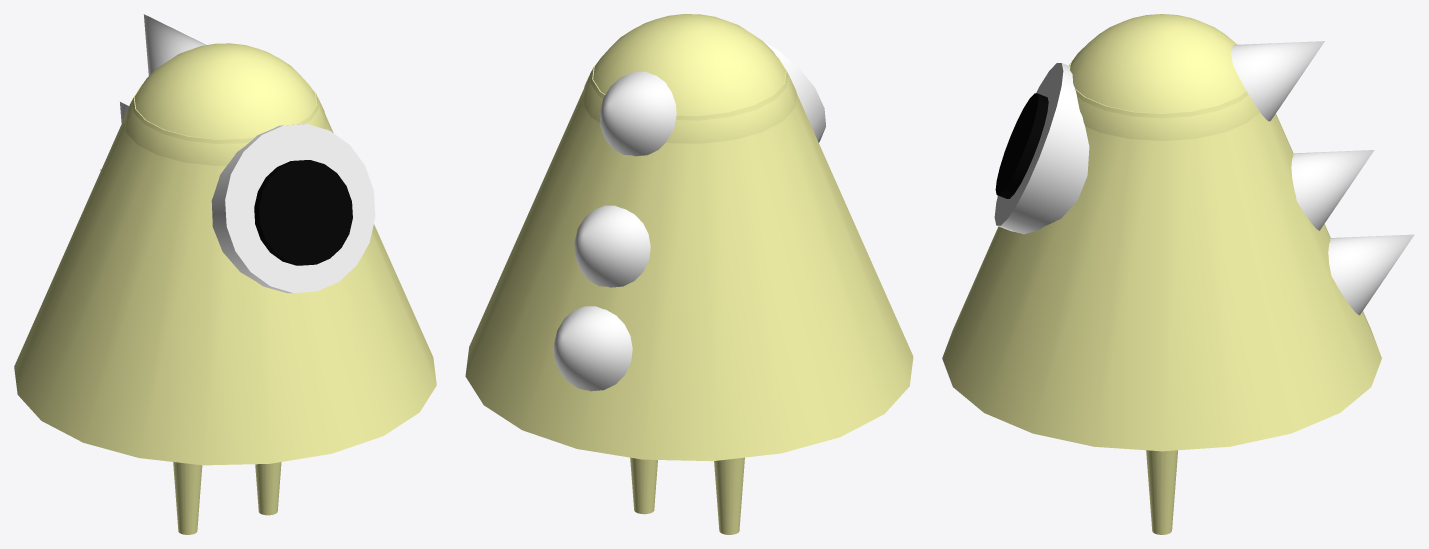
3 renders of one model, left to right at view 1: azimuth 30°, elevation 25°; view 2: azimuth 150°, elevation 25°; view 3: azimuth 270°, elevation 25°, orthographic. The views are drawn at different scales.
Visible parts, largest first — view 1: pCylinder1, pSphere1, pCylinder5, pCylinder6, pCylinder3, pCone4, pCylinder4; view 2: pCylinder1, pSphere1, pCone6, pCone4, pCone5, pCylinder3, pCylinder5, pCylinder4; view 3: pCylinder1, pSphere1, pCylinder5, pCone4, pCone6, pCone5, pCylinder6, pCylinder4.
Part boxes in pixels (x1,y1,x2,y2): pCylinder1: (14, 84, 436, 465); pSphere1: (124, 43, 326, 165); pCylinder5: (211, 124, 375, 293); pCylinder6: (254, 160, 352, 265); pCylinder3: (173, 462, 202, 534); pCone4: (143, 14, 206, 75); pCylinder4: (255, 462, 281, 515); pCylinder1: (465, 57, 913, 461); pSphere1: (582, 14, 796, 143); pCone6: (554, 306, 632, 391); pCone4: (599, 71, 676, 156); pCone5: (574, 205, 650, 287); pCylinder3: (714, 457, 744, 534); pCylinder5: (763, 41, 825, 142); pCylinder4: (630, 457, 657, 514); pCylinder1: (942, 60, 1381, 451); pSphere1: (1069, 14, 1259, 140); pCylinder5: (994, 63, 1089, 234); pCone4: (1230, 41, 1324, 121); pCone6: (1328, 234, 1414, 315); pCone5: (1291, 150, 1374, 230); pCylinder6: (995, 93, 1048, 198); pCylinder4: (1146, 450, 1177, 534).
Size of the model in its own units: 2 by 2.43 by 2.15.
